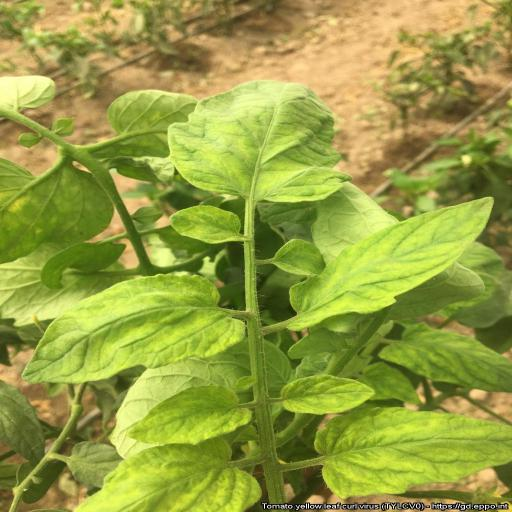disease_tomato: (286, 197, 494, 332), (164, 78, 352, 208), (18, 272, 228, 388), (312, 403, 512, 498), (76, 437, 262, 512), (376, 321, 512, 394), (122, 384, 256, 444), (281, 374, 374, 414), (164, 204, 244, 244)
